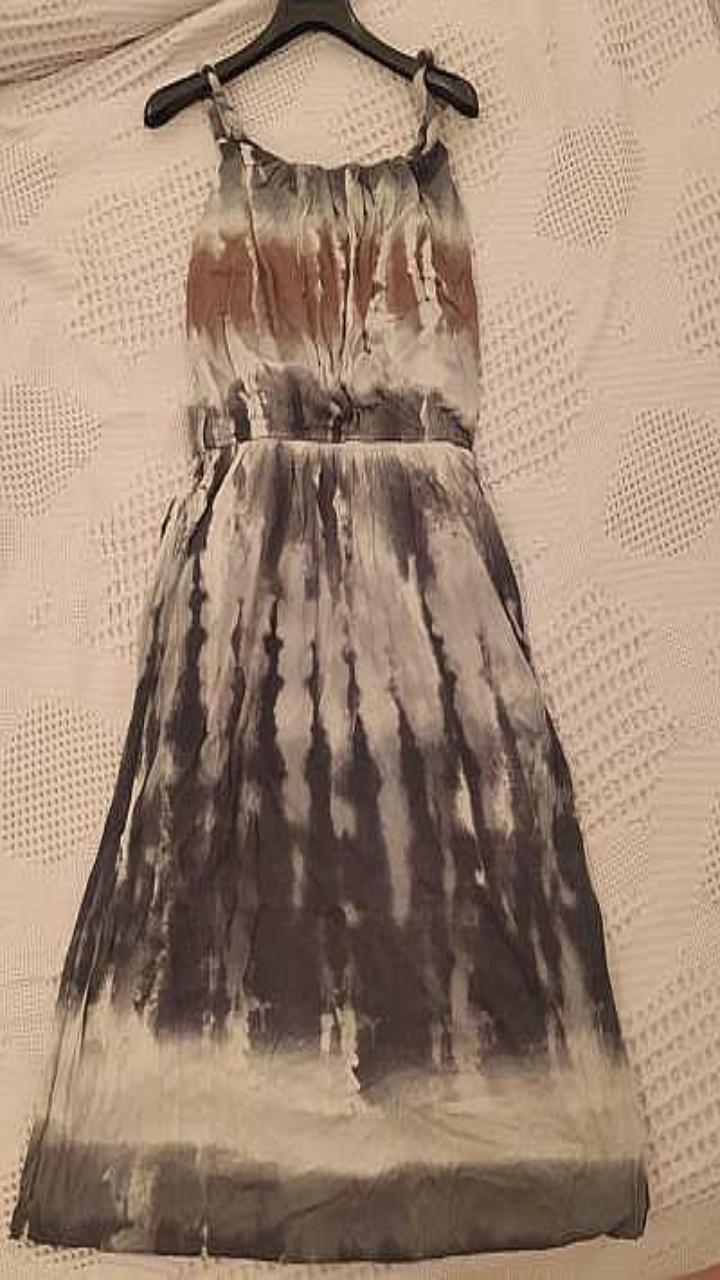Dresses: (11, 56, 647, 1259)
